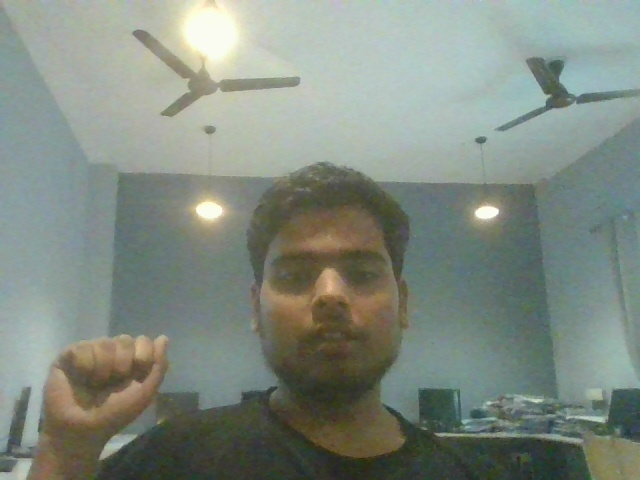A: (17, 320, 183, 444)
